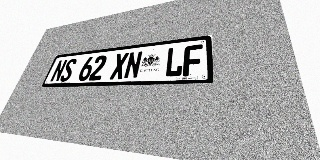2: (88, 55, 108, 81)
6: (77, 56, 96, 81)
F: (182, 44, 203, 77)
L: (164, 46, 184, 77)
N: (123, 51, 143, 79), (49, 59, 68, 82)
S: (59, 58, 78, 82)
X: (109, 52, 129, 80)
